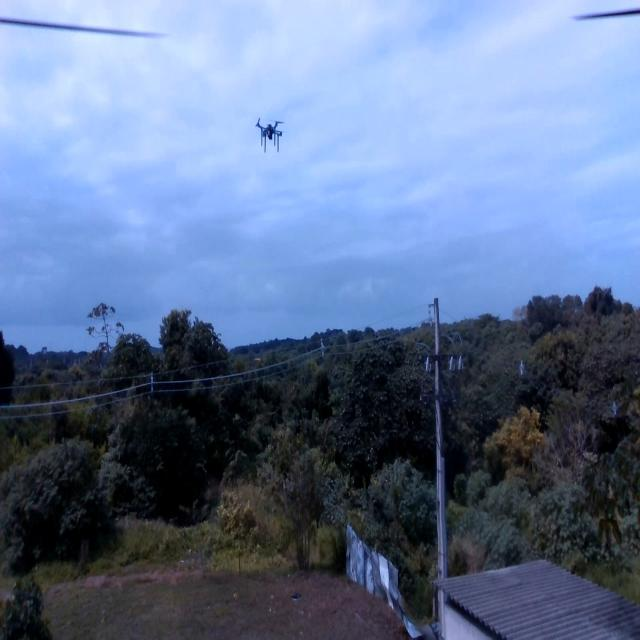-uav-: (251, 112, 290, 164)
